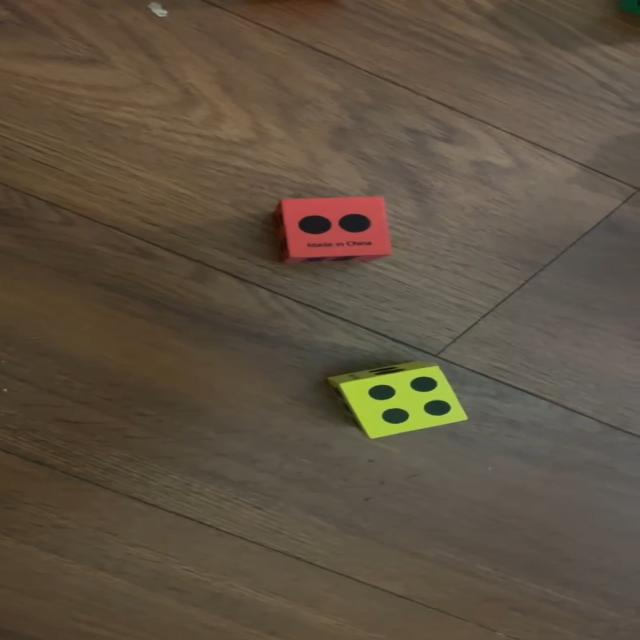red_block: (278, 193, 393, 263)
